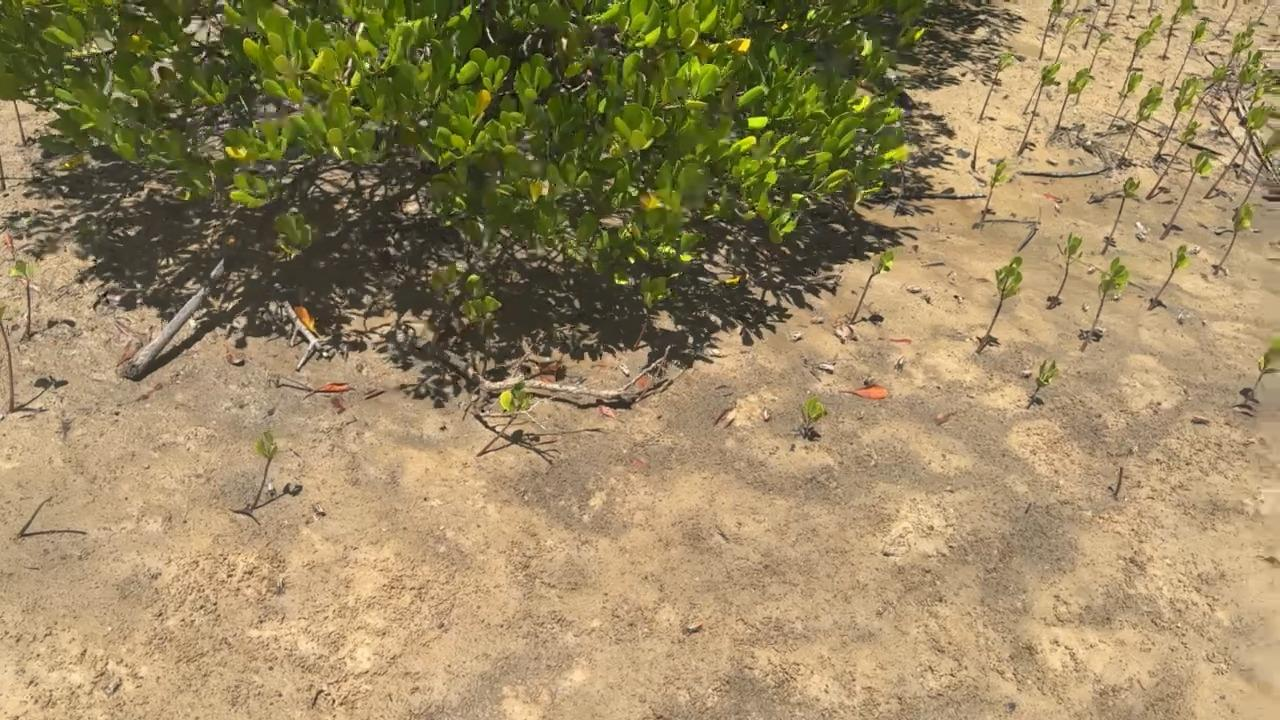Tree: (1203, 106, 1272, 198), (1159, 152, 1214, 240), (1145, 120, 1203, 200), (1214, 49, 1264, 140), (476, 380, 535, 457), (976, 257, 1023, 353), (1232, 128, 1280, 222), (1208, 21, 1257, 107), (1017, 63, 1061, 157), (1116, 86, 1164, 168), (1084, 256, 1129, 343), (1153, 76, 1198, 161), (1119, 15, 1163, 100), (849, 250, 894, 323), (1074, 32, 1116, 107), (1101, 177, 1141, 255), (1212, 202, 1254, 276), (1186, 62, 1231, 131), (1046, 231, 1083, 308), (1147, 244, 1189, 311), (1170, 20, 1208, 91), (1243, 336, 1280, 406), (979, 53, 1015, 120), (9, 259, 35, 341), (1055, 68, 1089, 129), (1108, 71, 1143, 130), (251, 430, 277, 508), (1022, 64, 1061, 116), (1051, 13, 1088, 66), (1163, 0, 1193, 61), (980, 155, 1007, 221), (1025, 358, 1058, 409), (1038, 0, 1063, 61), (0, 305, 14, 412), (18, 496, 53, 536), (1249, 69, 1280, 111), (800, 397, 827, 439), (1083, 0, 1101, 50), (1216, 0, 1238, 38), (1051, 1, 1069, 30), (970, 137, 979, 172), (1105, 0, 1116, 27), (1114, 467, 1124, 495), (1127, 0, 1139, 22), (1258, 2, 1269, 24), (1147, 0, 1153, 17), (1072, 0, 1080, 12)
